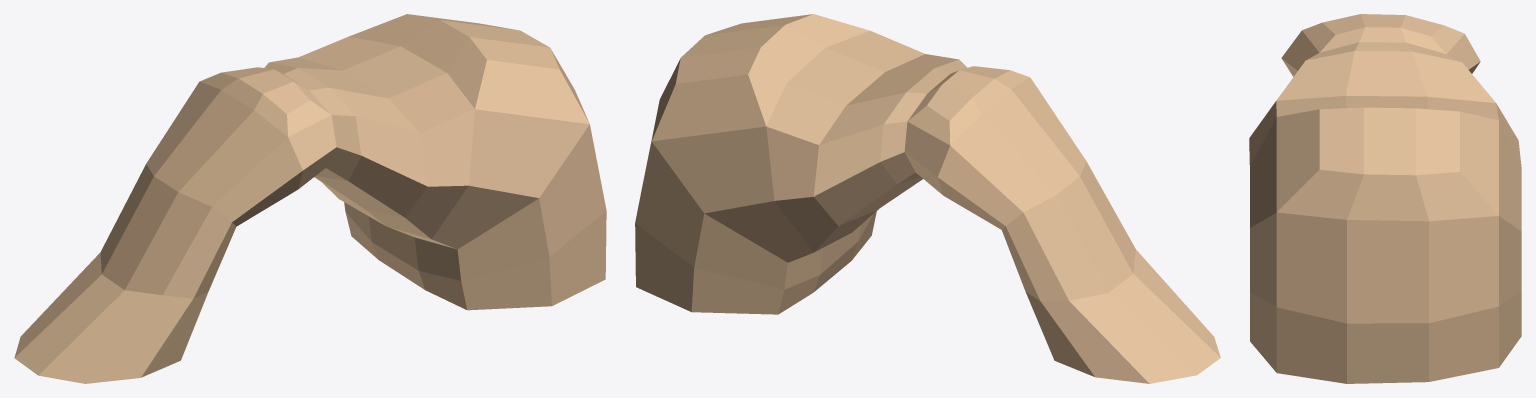
Rendered from Rock_Arch_03.fbx.
3 renders of one model, left to right at view 1: azimuth 30°, elevation 25°; view 2: azimuth 150°, elevation 25°; view 3: azimuth 270°, elevation 25°, orthographic. The views are drawn at different scales.
Visible parts, largest first — view 1: Rock_Arch_03; view 2: Rock_Arch_03; view 3: Rock_Arch_03.
Part boxes in pixels (x1,y1,x2,y2): Rock_Arch_03: [14, 14, 606, 383]; Rock_Arch_03: [635, 14, 1220, 383]; Rock_Arch_03: [1249, 14, 1521, 383].
Size of the model in its own units: 1959 by 789 by 875.
